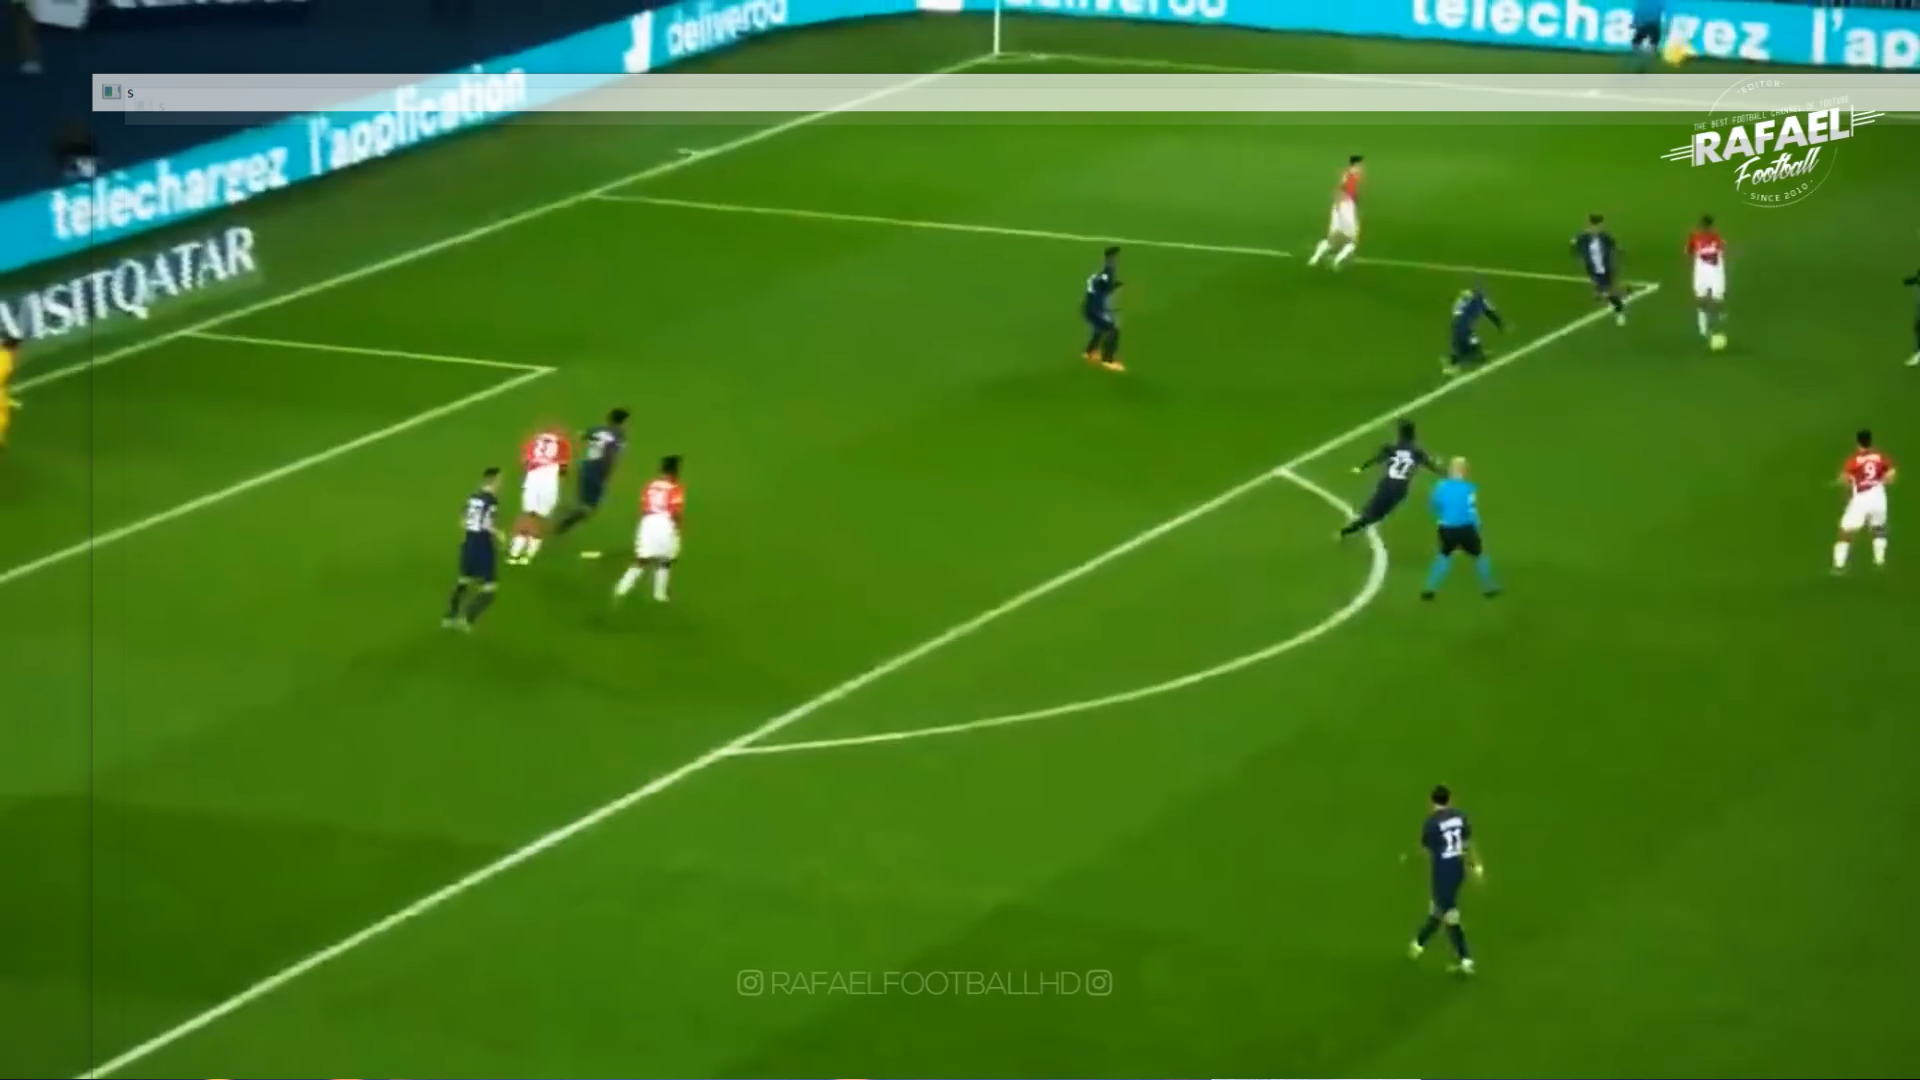ft: (1704, 331, 1731, 353)
